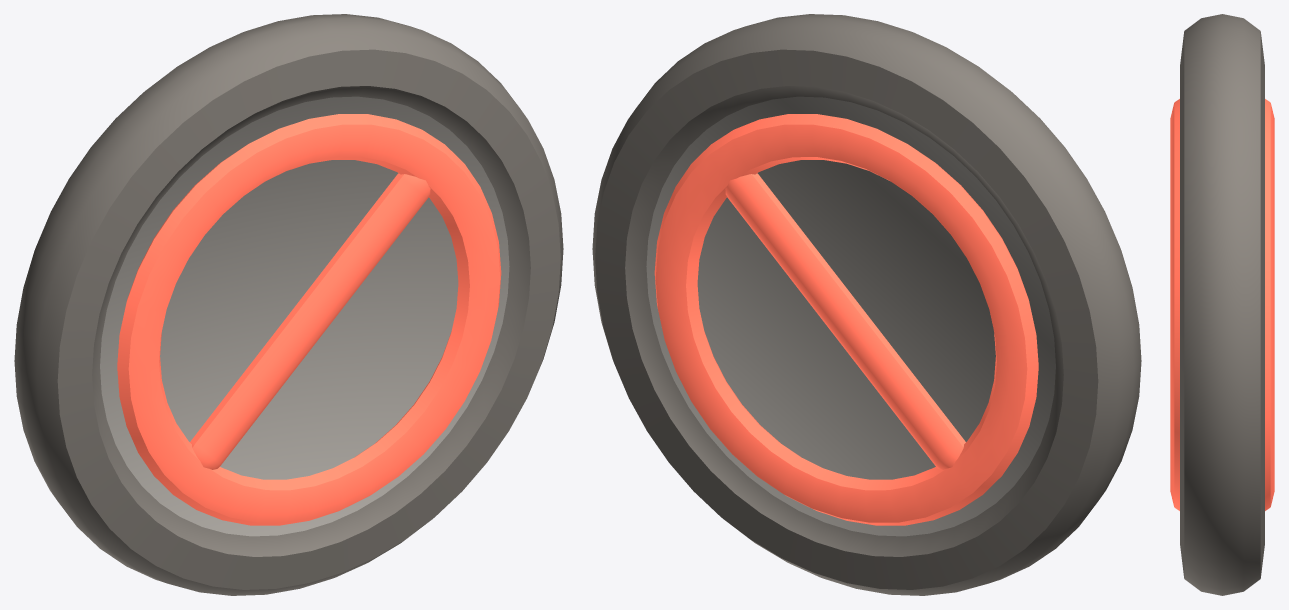
The model's file is ban_medal.glb.
The picture shows the model from 3 angles, left to right: view 1: azimuth 30°, elevation 25°; view 2: azimuth 150°, elevation 25°; view 3: azimuth 270°, elevation 25°; orthographic projection. The views are drawn at different scales.
Visible parts, largest first — view 1: Medal; view 2: Medal; view 3: Medal.
Boxes of the visible parts, <box> form: Medal: <box>14,14,563,595</box>; Medal: <box>592,14,1141,595</box>; Medal: <box>1170,14,1274,595</box>.
Bounding box in the file's own units: 0.548 × 0.548 × 0.0984.
